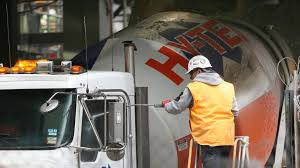helmet: (186, 55, 211, 70)
vest: (192, 80, 237, 143)
